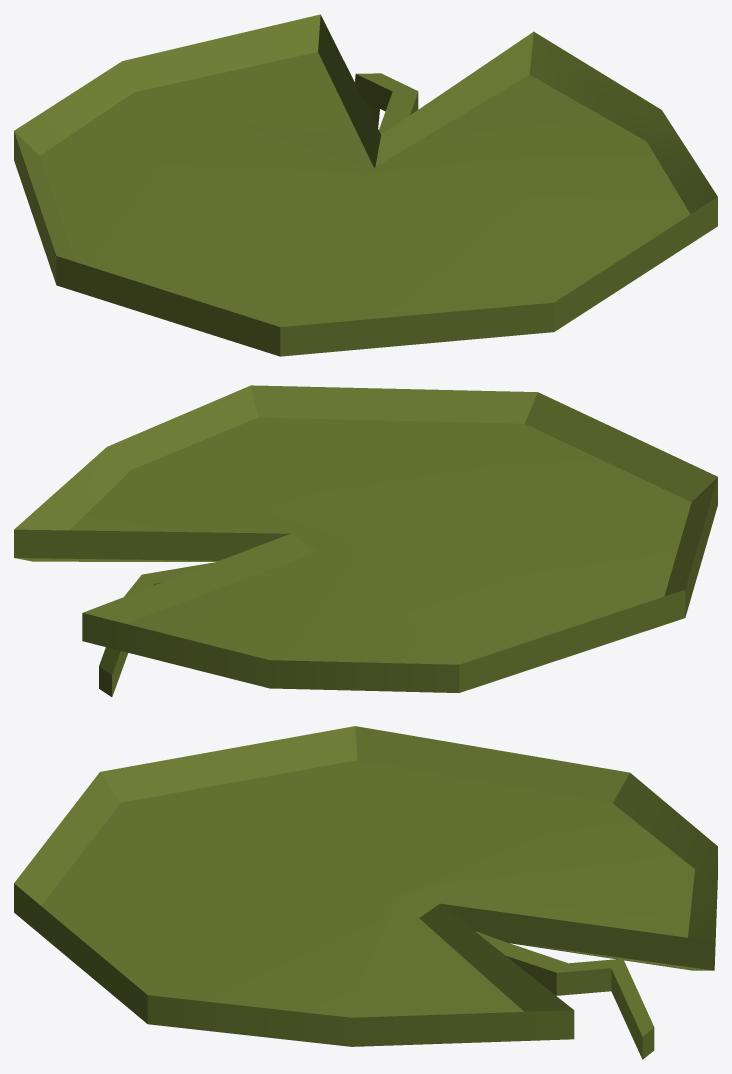
Rendered from art_3dobjects_water_crop_stage1.fbx.
The picture shows the model from 3 angles, top to bottom: view 1: azimuth 30°, elevation 25°; view 2: azimuth 150°, elevation 25°; view 3: azimuth 270°, elevation 25°; orthographic projection. The views are drawn at different scales.
Visible parts, largest first — view 1: water_stage1; view 2: water_stage1; view 3: water_stage1.
Part boxes in pixels (x1=…): water_stage1: x1=14, y1=14, x2=717, y2=356; water_stage1: x1=14, y1=385, x2=717, y2=696; water_stage1: x1=14, y1=726, x2=717, y2=1059.
Bounding box in the file's own units: 10.6 × 1.85 × 10.81.
